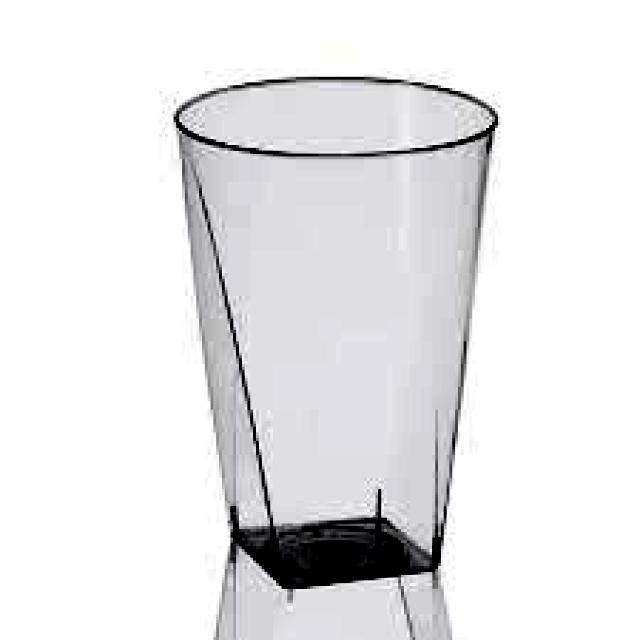Glass: (168, 69, 498, 592)
